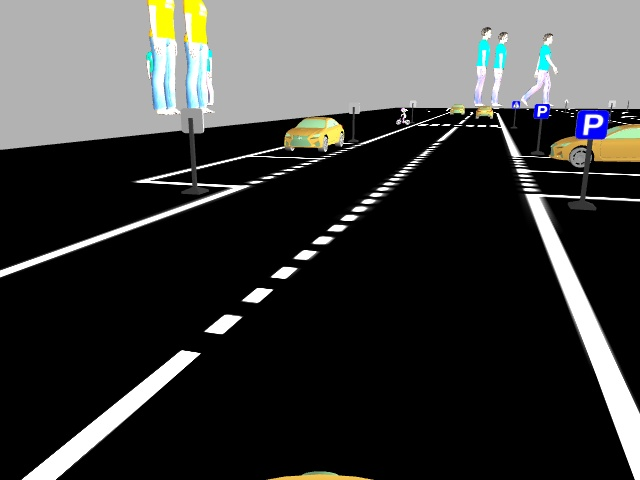Parking: (574, 109, 609, 140), (533, 102, 549, 119)
